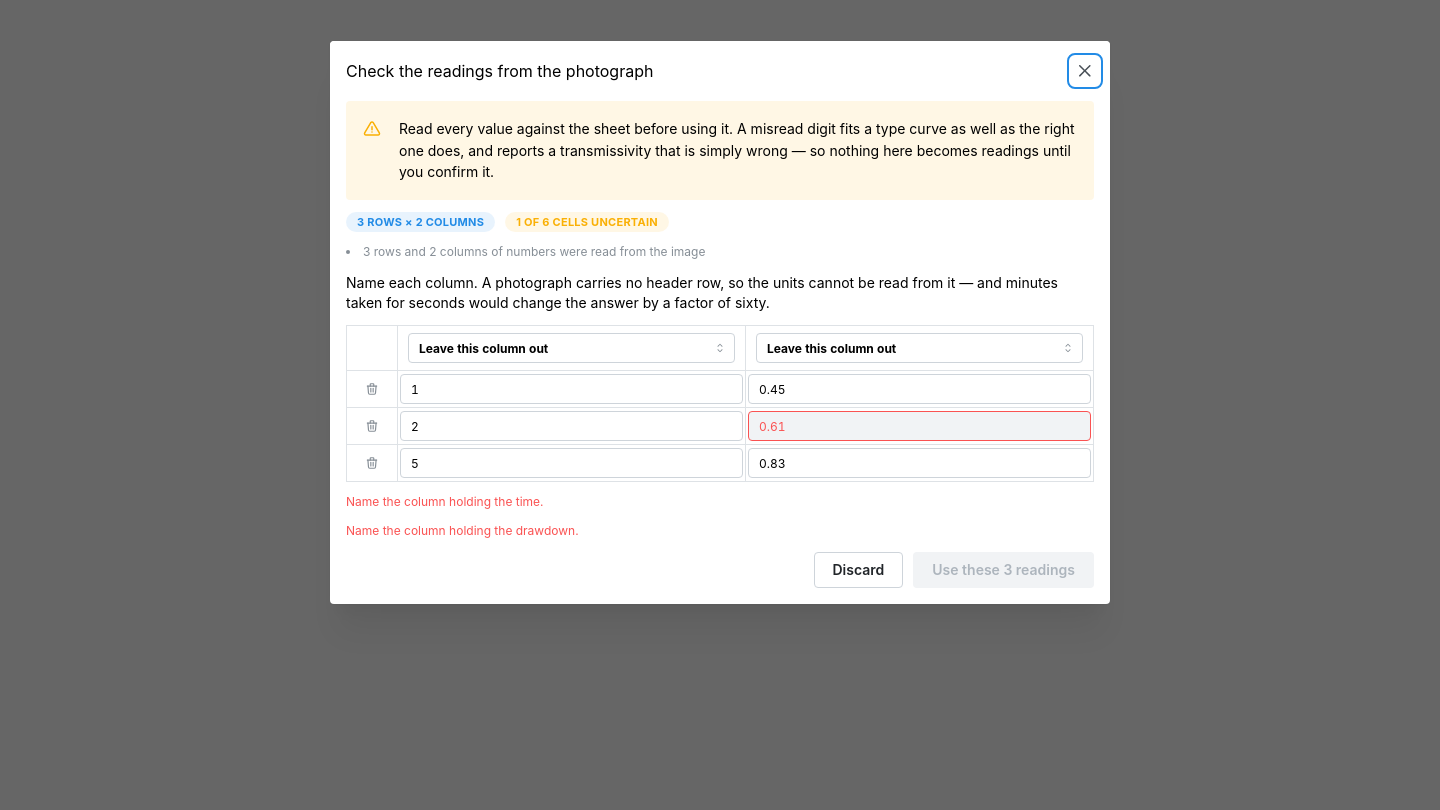
Test case: OCRGrid › refuses two columns with the same name
The width and height of the screenshot is (1440, 810).
Click the field named "Column 1": (572, 348) [408,333,735,363]
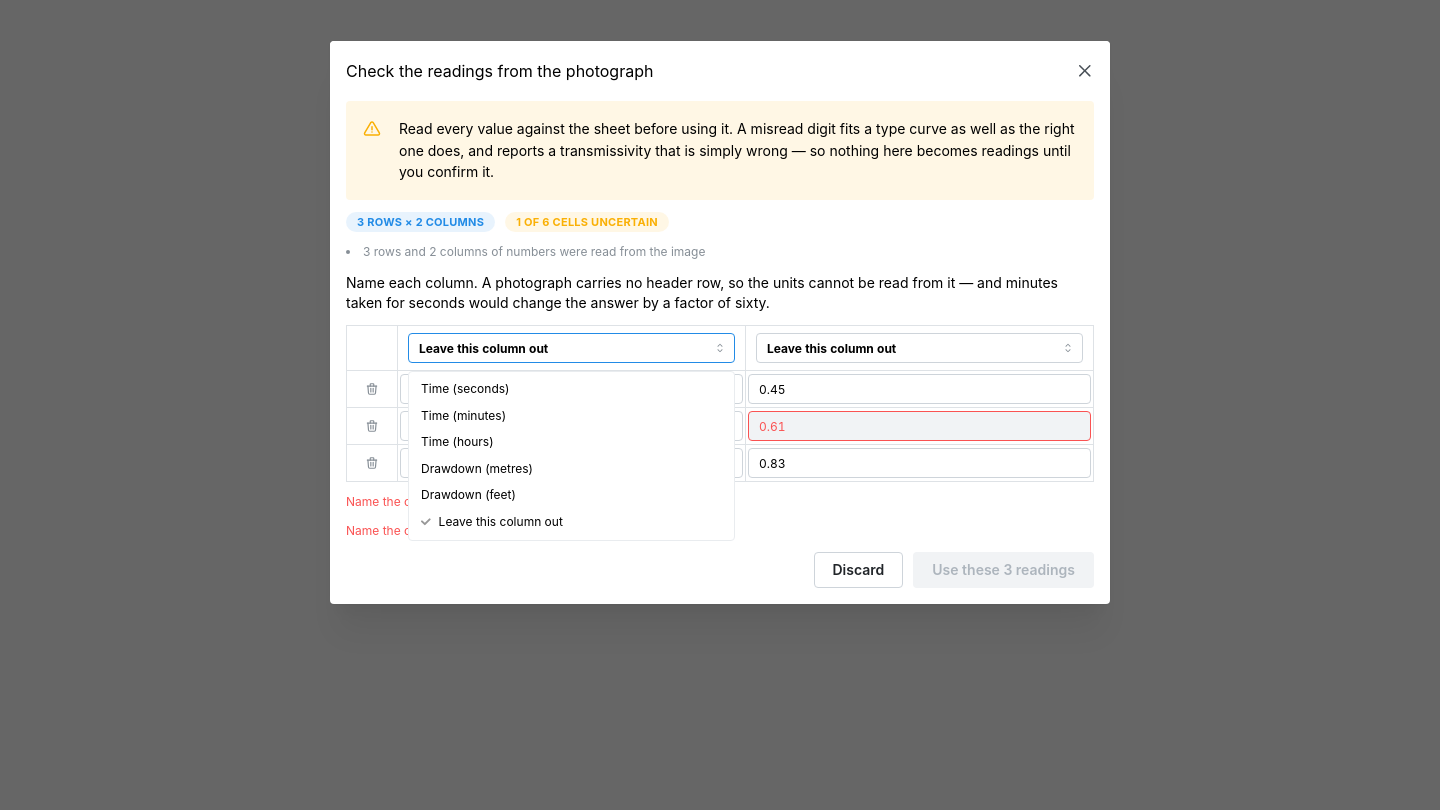
Click the option "Time (minutes)": (464, 415) [421,408,506,422]
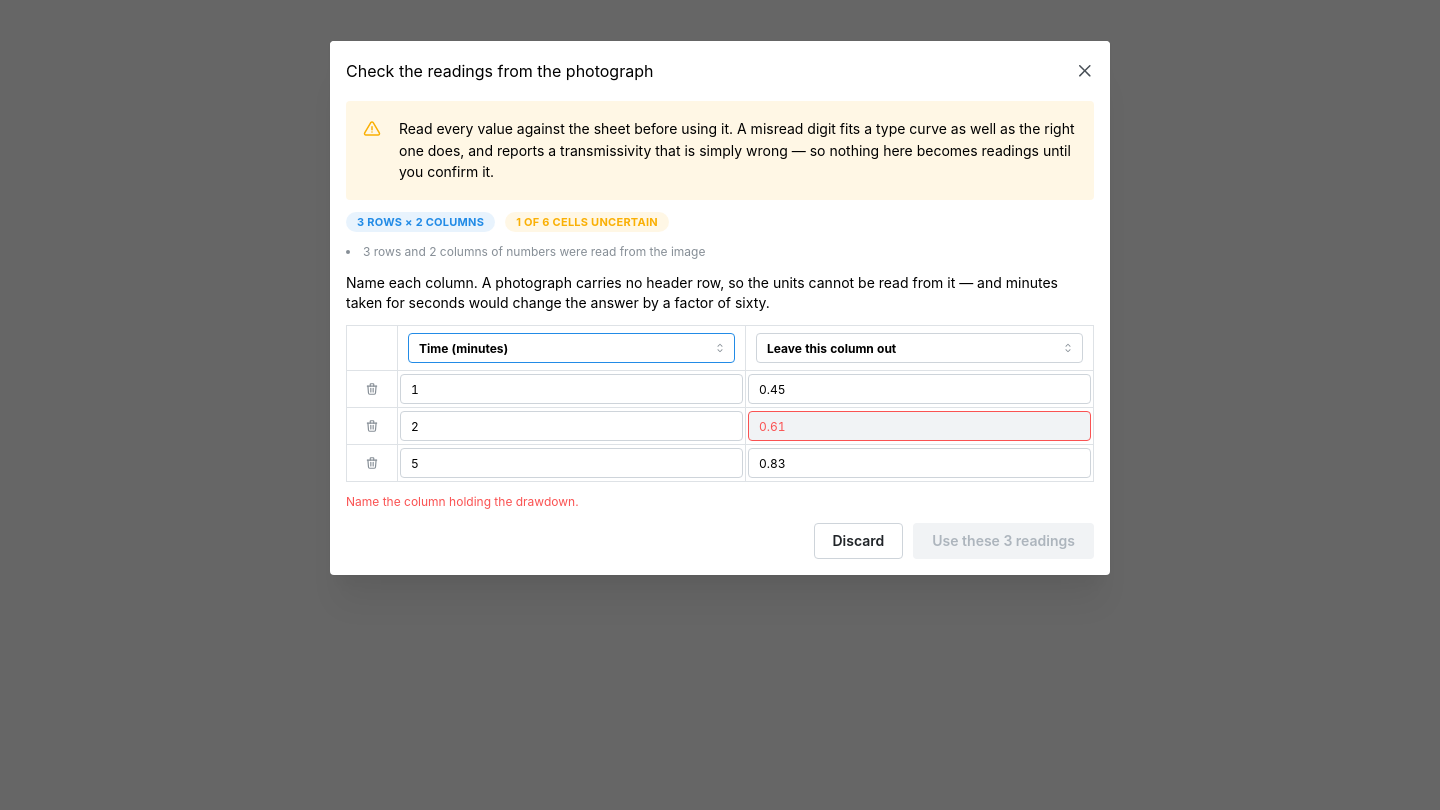
Click the field named "Column 2": (920, 348) [756,333,1083,363]
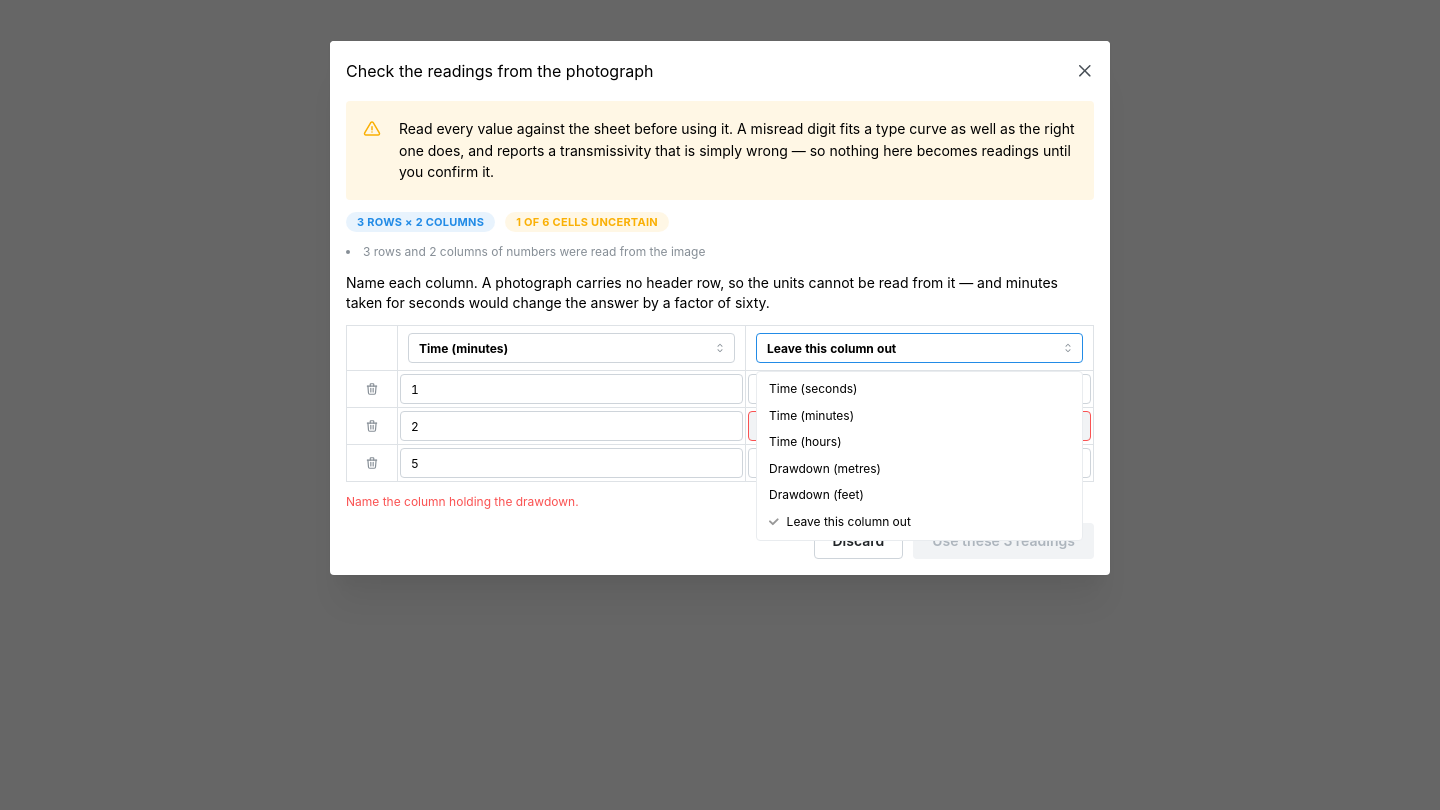
Click the option "Time (minutes)": (812, 415) [769,408,854,422]
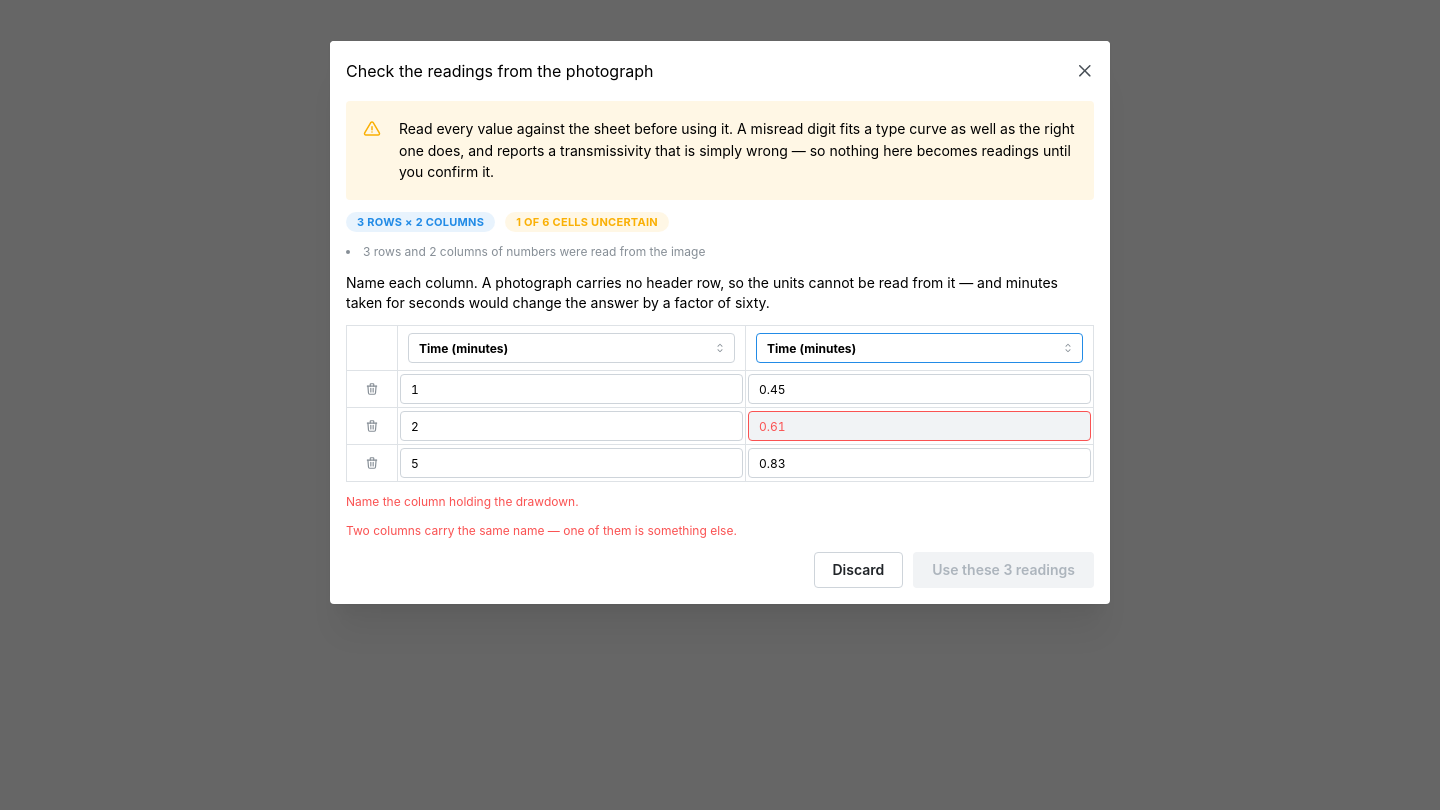
Check: the button "Use these 3 readings" is disabled, box [913,552,1094,588]
Check: the text "same name" is shown, box [346,523,737,538]
